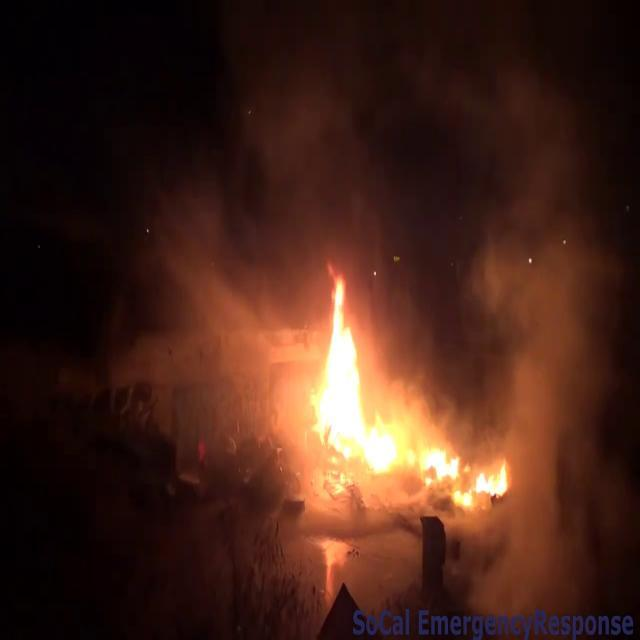Fire: (298, 271, 414, 483), (419, 431, 519, 514)
Smoke: (160, 41, 445, 397), (460, 46, 634, 612)
